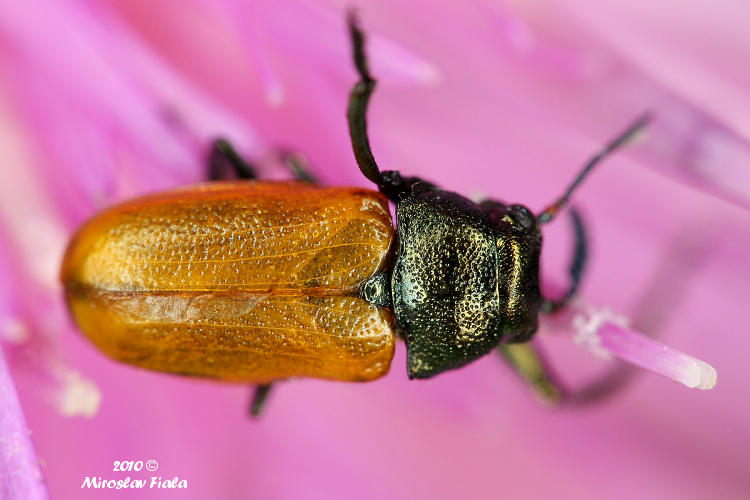Labidostomis_longimana: (28, 4, 650, 434)
